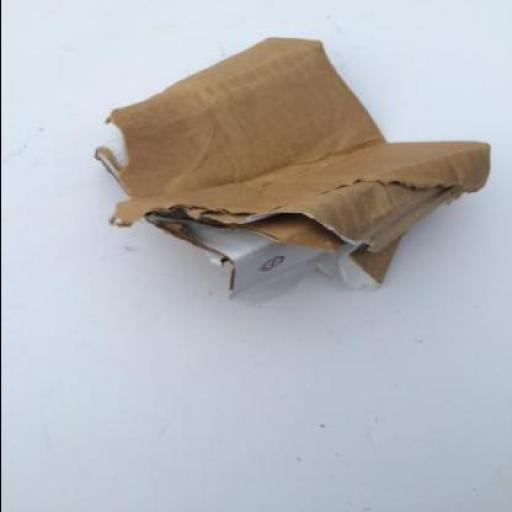cardboard: (92, 36, 486, 298)
